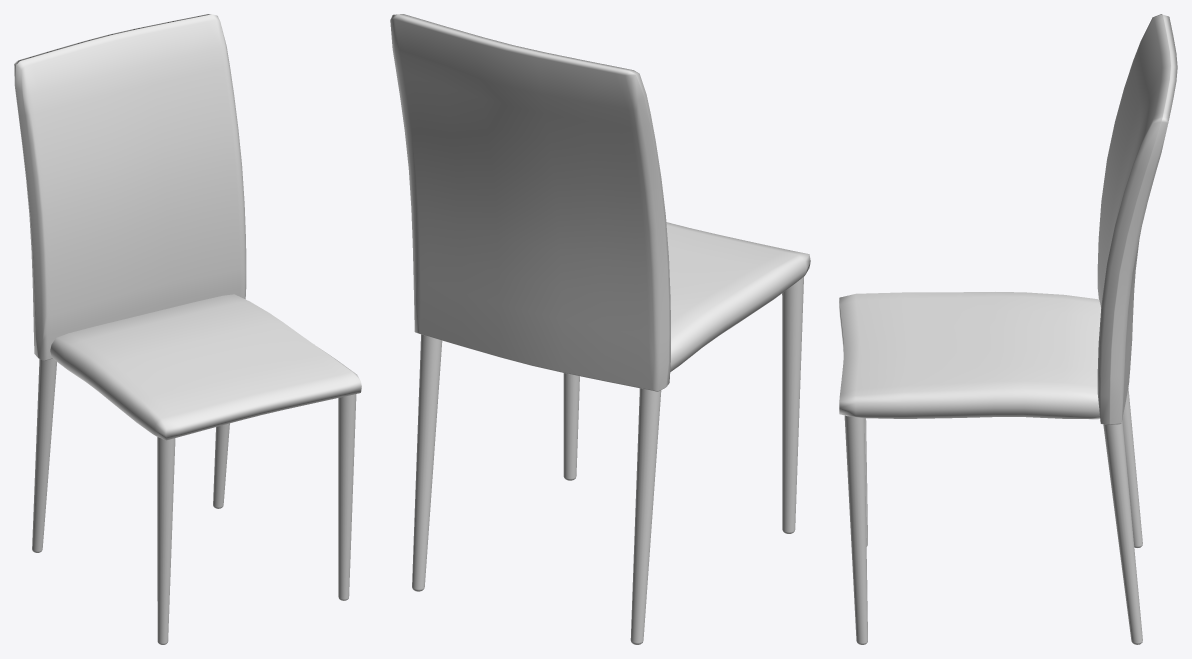
The model's file is chair_53_01.001.fbx.
3 renders of one model, left to right at view 1: azimuth 30°, elevation 25°; view 2: azimuth 150°, elevation 25°; view 3: azimuth 270°, elevation 25°, orthographic. The views are drawn at different scales.
Parts seen in each view (by area): view 1: chair_53_01.001; view 2: chair_53_01.001; view 3: chair_53_01.001.
Part boxes in pixels (x1,y1,x2,y2): chair_53_01.001: (14,14,361,644); chair_53_01.001: (390,14,810,644); chair_53_01.001: (839,14,1177,644).
Size of the model in its own units: 41.99 by 92.09 by 53.32.
Materials: 1 (1 with a texture image).
